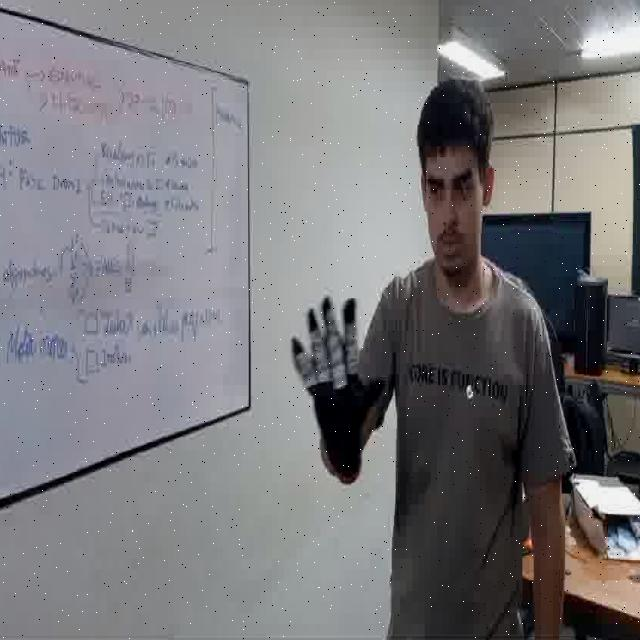Gloves: (293, 295, 387, 482)
